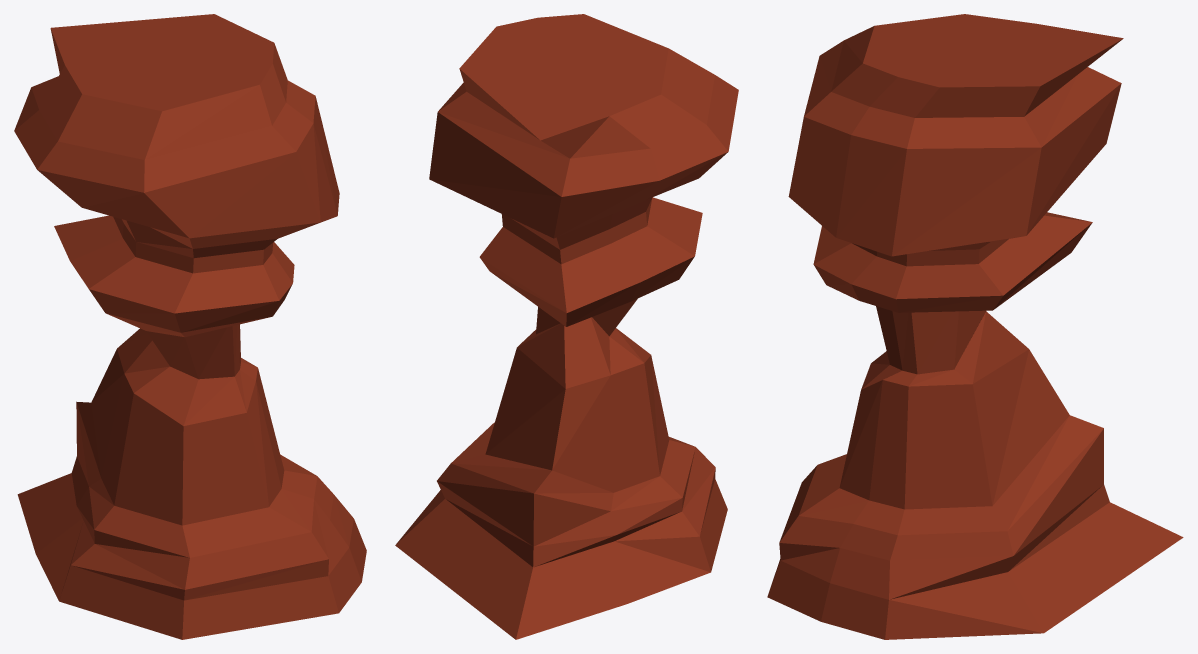
File: mała góra2.FBX
The picture shows the model from 3 angles, left to right: view 1: azimuth 30°, elevation 25°; view 2: azimuth 150°, elevation 25°; view 3: azimuth 270°, elevation 25°; orthographic projection. The views are drawn at different scales.
Parts seen in each view (by area): view 1: Line002; view 2: Line002; view 3: Line002.
Part boxes in pixels (x1,y1,x2,y2): Line002: [14, 14, 366, 639]; Line002: [395, 14, 738, 639]; Line002: [767, 14, 1183, 639].
Bounding box in the file's own units: 220 × 350 × 254.
